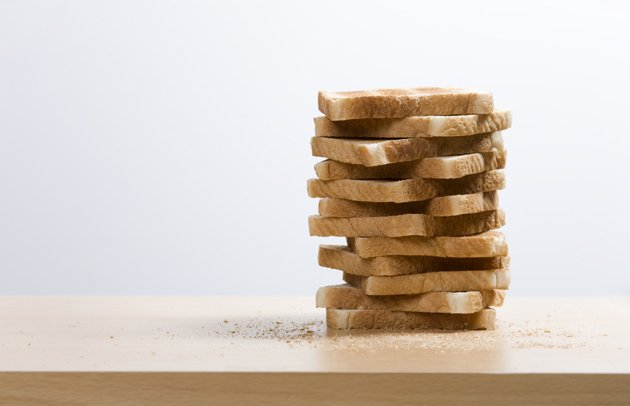slice of bread: (306, 84, 507, 333)
